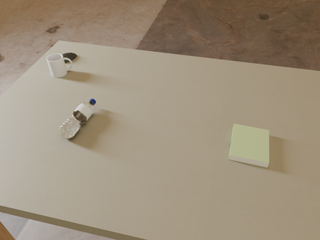book: (229, 124, 269, 167)
bottle: (59, 99, 96, 139)
cup: (47, 54, 72, 77)
mouse: (62, 53, 77, 63)
